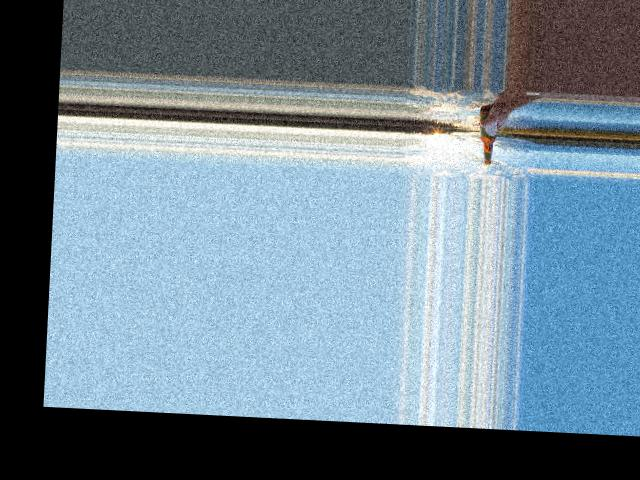beer: (476, 107, 498, 164)
